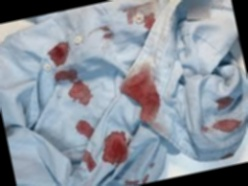blood: (124, 72, 161, 125), (98, 129, 132, 166), (67, 78, 92, 107), (47, 40, 72, 68), (211, 116, 243, 134), (75, 117, 96, 142), (54, 68, 78, 84), (124, 172, 151, 186), (215, 95, 236, 112), (83, 150, 96, 173), (142, 13, 158, 30), (101, 25, 113, 41), (126, 11, 134, 24)
